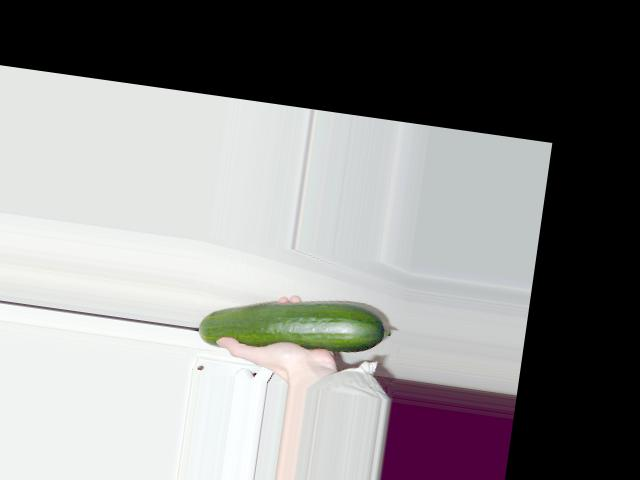cucumber: (196, 280, 394, 369)
